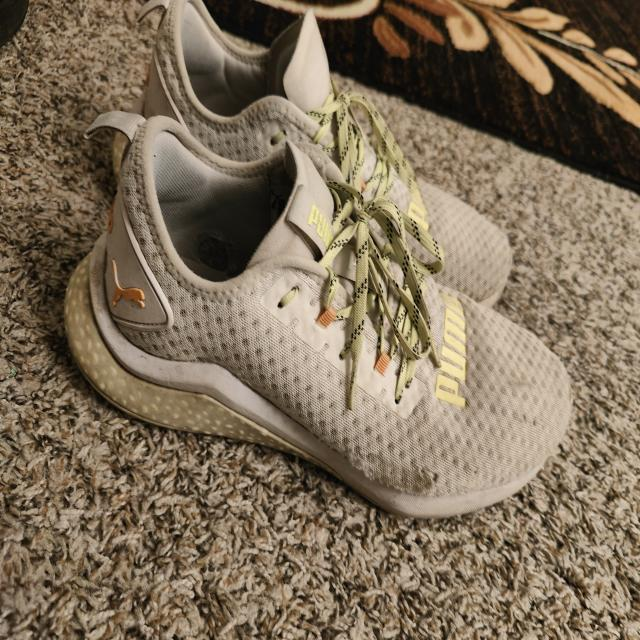white shoes: (66, 2, 572, 516)
